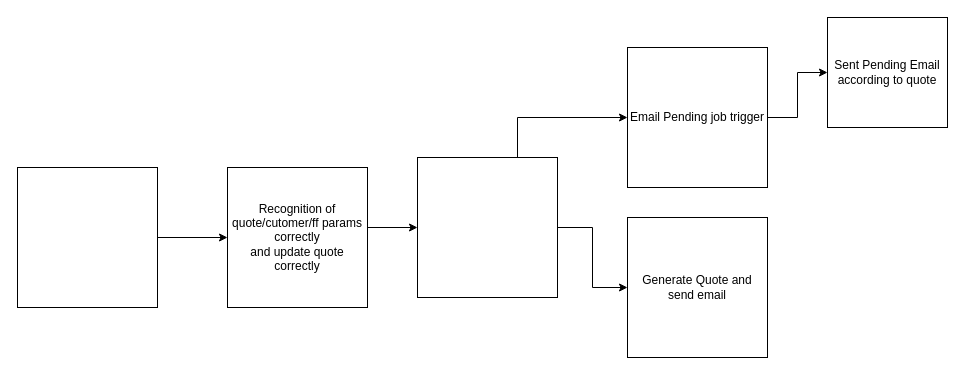
This 965x375 diagram has some shape labels left out. The shapes that lost their labels are listed below. From the top down, each one's centre as x and y in pixels, then its label:
At (x=87, y=237): "Customer Send Email to ff".
At (x=487, y=227): "Draft Quote".
